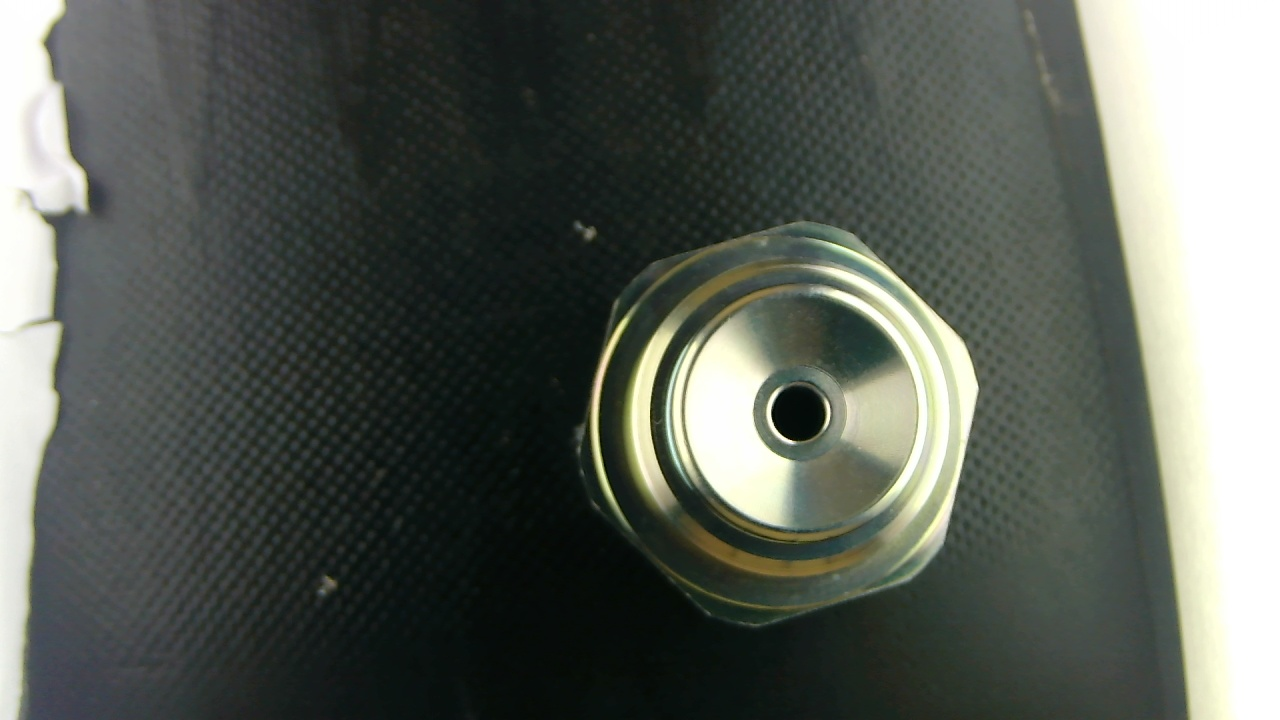Capnut_Okay: (580, 222, 977, 625)
